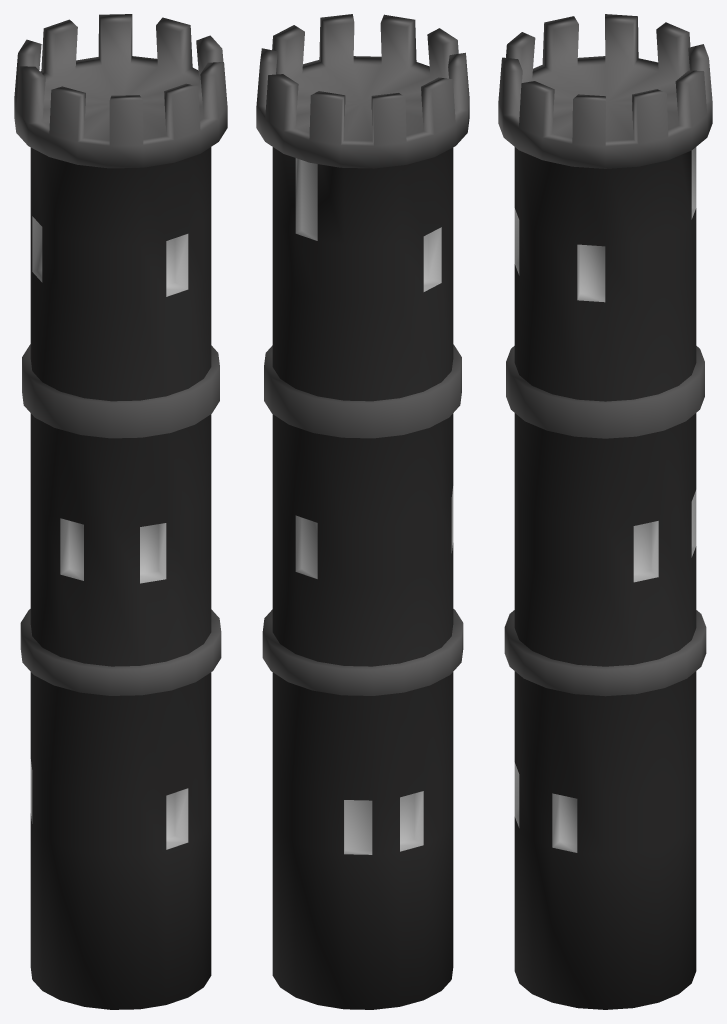
File: castle_tower.fbx
3 renders of one model, left to right at view 1: azimuth 30°, elevation 25°; view 2: azimuth 150°, elevation 25°; view 3: azimuth 270°, elevation 25°, orthographic.
Parts seen in each view (by area): view 1: tower; view 2: tower; view 3: tower.
Part boxes in pixels (x1,y1,x2,y2): tower: (14, 14, 227, 1009); tower: (256, 14, 469, 1009); tower: (498, 14, 712, 1009).
Bounding box in the file's own units: 962 × 4529 × 962.
1 material, 1 textured.
